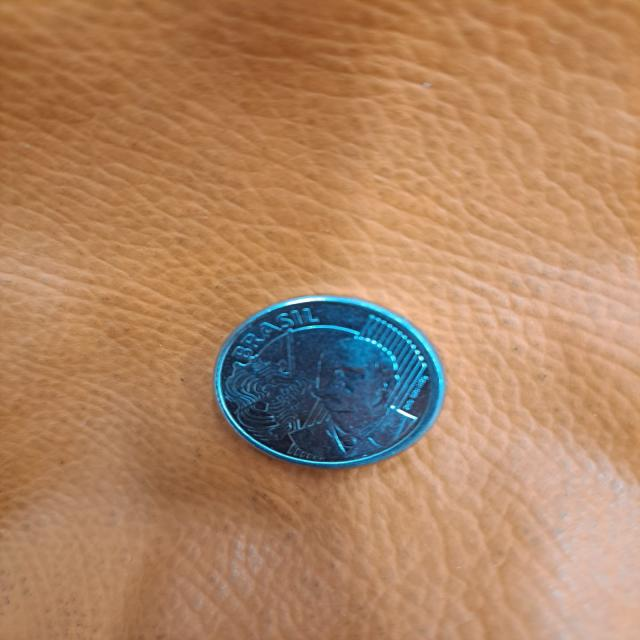50 cents: (197, 294, 464, 474)
